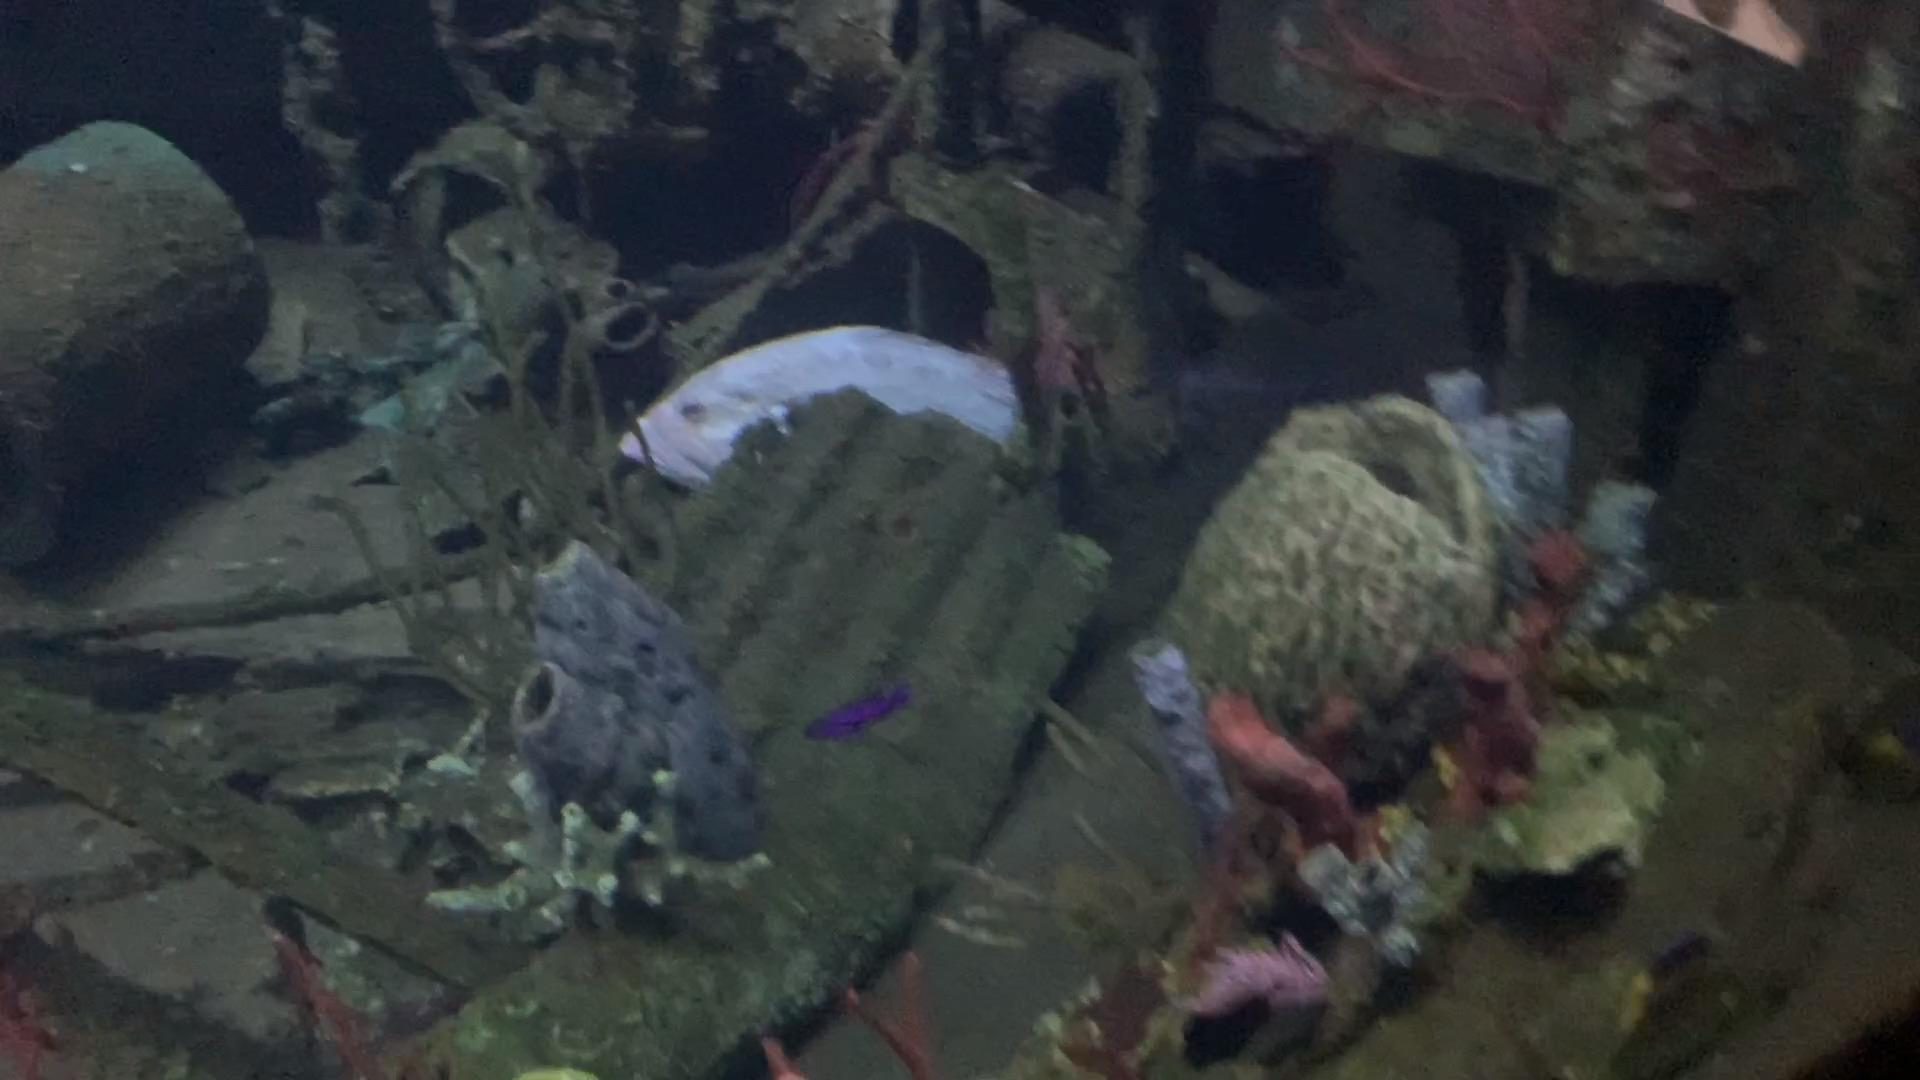fish: (601, 315, 1036, 497), (1228, 686, 1348, 748)
